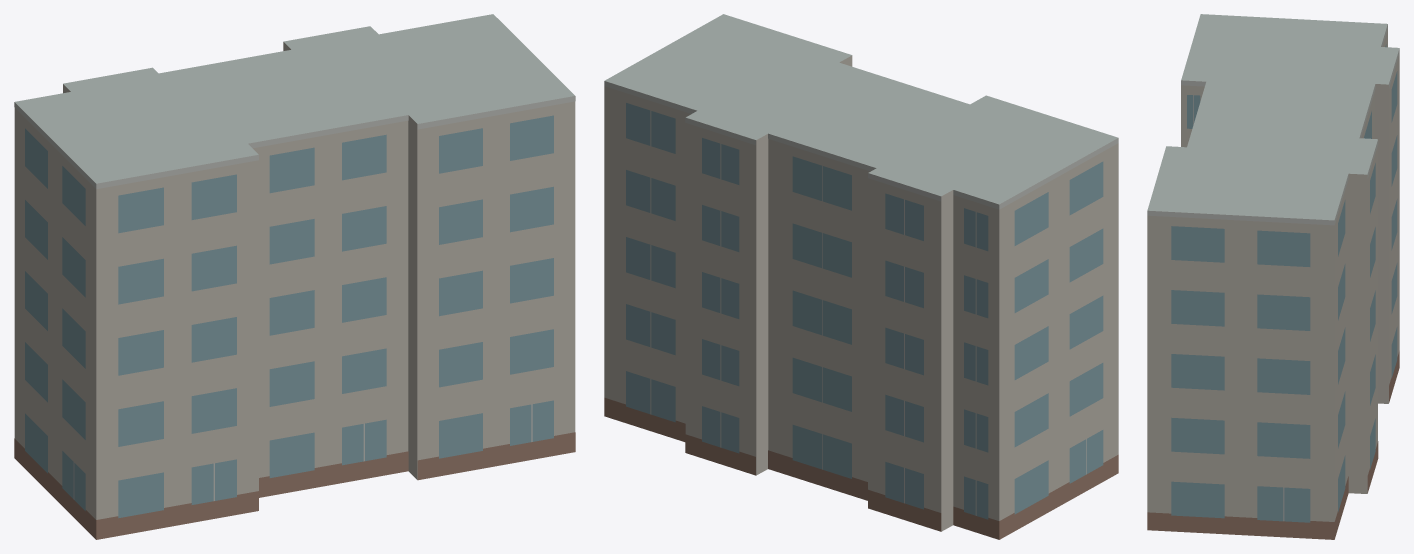
The model's file is survey-upis-32750071.glb.
The picture shows the model from 3 angles, left to right: view 1: azimuth 30°, elevation 25°; view 2: azimuth 150°, elevation 25°; view 3: azimuth 270°, elevation 25°; orthographic projection. The views are drawn at different scales.
Parts seen in each view (by area): view 1: survey-upis-32750071.tmp; view 2: survey-upis-32750071.tmp; view 3: survey-upis-32750071.tmp.
Boxes of the visible parts, x1,y1,x2,y2 form: survey-upis-32750071.tmp: (14,14,575,539); survey-upis-32750071.tmp: (604,14,1118,539); survey-upis-32750071.tmp: (1147,14,1399,539).
Size of the model in its own units: 21.77 by 15.7 by 11.25.
